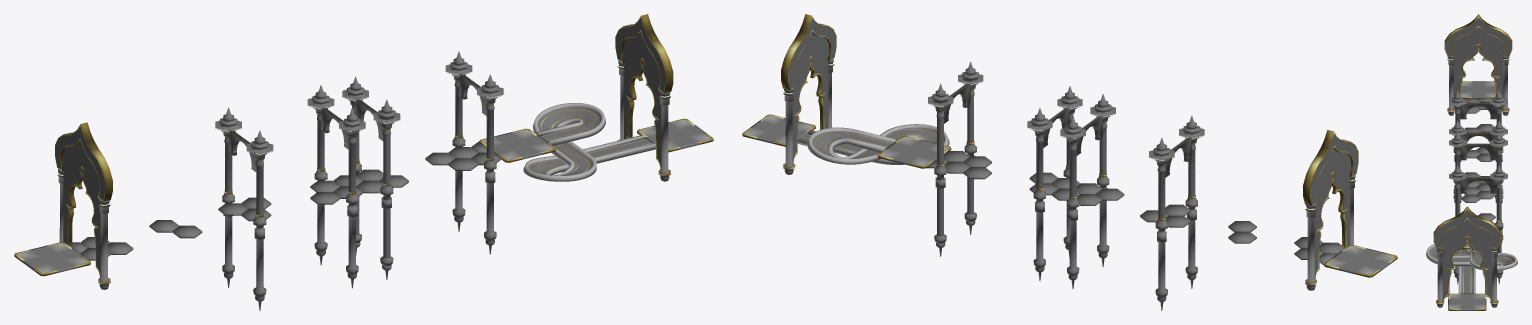
Rendered from SpaceC.gltf.
The picture shows the model from 3 angles, left to right: view 1: azimuth 30°, elevation 25°; view 2: azimuth 150°, elevation 25°; view 3: azimuth 270°, elevation 25°; orthographic projection. The views are drawn at different scales.
Parts seen in each view (by area): view 1: stg071_k22_Mesh_0007, stg071_o22_Mesh_0000, stg071_k22_Mesh_0000, stg071_k22_Mesh_0021, stg071_k22_Mesh_0001, stg071_k22_Mesh_0010, stg071_k22_Mesh_0005, stg071_k22_Mesh_0013, stg071_k22_Mesh_0034, stg071_k22_Mesh_0025, stg071_k22_Mesh_0027, stg071_k22_Mesh_0015 (+1 smaller); view 2: stg071_k22_Mesh_0007, stg071_o22_Mesh_0000, stg071_k22_Mesh_0000, stg071_k22_Mesh_0010, stg071_k22_Mesh_0021, stg071_k22_Mesh_0001, stg071_k22_Mesh_0005, stg071_k22_Mesh_0013, stg071_k22_Mesh_0034, stg071_k22_Mesh_0025, stg071_k22_Mesh_0027, stg071_k22_Mesh_0015 (+1 smaller); view 3: stg071_k22_Mesh_0007, stg071_o22_Mesh_0000, stg071_k22_Mesh_0005, stg071_k22_Mesh_0013, stg071_k22_Mesh_0000, stg071_k22_Mesh_0027, stg071_k22_Mesh_0001, stg071_k22_Mesh_0025, stg071_k22_Mesh_0021, stg071_k22_Mesh_0034, stg071_k22_Mesh_0019, stg071_k22_Mesh_0010 (+3 smaller).
Boxes of the visible parts, x1=… form: stg071_k22_Mesh_0007: x1=58, y1=51, x2=670, y2=310; stg071_o22_Mesh_0000: x1=14, y1=14, x2=713, y2=284; stg071_k22_Mesh_0000: x1=65, y1=141, x2=500, y2=260; stg071_k22_Mesh_0021: x1=21, y1=103, x2=705, y2=272; stg071_k22_Mesh_0001: x1=26, y1=109, x2=702, y2=269; stg071_k22_Mesh_0010: x1=225, y1=93, x2=486, y2=288; stg071_k22_Mesh_0005: x1=55, y1=18, x2=665, y2=226; stg071_k22_Mesh_0013: x1=62, y1=34, x2=659, y2=195; stg071_k22_Mesh_0034: x1=17, y1=120, x2=710, y2=273; stg071_k22_Mesh_0025: x1=63, y1=56, x2=661, y2=274; stg071_k22_Mesh_0027: x1=228, y1=74, x2=486, y2=171; stg071_k22_Mesh_0015: x1=58, y1=63, x2=669, y2=296; stg071_k22_Mesh_0007: x1=784, y1=58, x2=1355, y2=310; stg071_o22_Mesh_0000: x1=742, y1=14, x2=1397, y2=285; stg071_k22_Mesh_0000: x1=926, y1=151, x2=1344, y2=265; stg071_k22_Mesh_0010: x1=934, y1=96, x2=1195, y2=289; stg071_k22_Mesh_0021: x1=750, y1=117, x2=1390, y2=274; stg071_k22_Mesh_0001: x1=753, y1=119, x2=1386, y2=271; stg071_k22_Mesh_0005: x1=788, y1=18, x2=1358, y2=229; stg071_k22_Mesh_0013: x1=793, y1=33, x2=1350, y2=199; stg071_k22_Mesh_0034: x1=745, y1=115, x2=1394, y2=274; stg071_k22_Mesh_0025: x1=792, y1=54, x2=1350, y2=276; stg071_k22_Mesh_0027: x1=944, y1=83, x2=1191, y2=177; stg071_k22_Mesh_0015: x1=784, y1=60, x2=1354, y2=297; stg071_k22_Mesh_0007: x1=1436, y1=56, x2=1509, y2=307; stg071_o22_Mesh_0000: x1=1431, y1=14, x2=1512, y2=310; stg071_k22_Mesh_0005: x1=1434, y1=18, x2=1511, y2=267; stg071_k22_Mesh_0013: x1=1441, y1=27, x2=1503, y2=247; stg071_k22_Mesh_0000: x1=1461, y1=98, x2=1495, y2=224; stg071_k22_Mesh_0027: x1=1460, y1=103, x2=1496, y2=193; stg071_k22_Mesh_0001: x1=1431, y1=82, x2=1512, y2=308; stg071_k22_Mesh_0025: x1=1442, y1=43, x2=1503, y2=298; stg071_k22_Mesh_0021: x1=1426, y1=81, x2=1517, y2=310; stg071_k22_Mesh_0034: x1=1450, y1=82, x2=1495, y2=308; stg071_k22_Mesh_0019: x1=1442, y1=59, x2=1503, y2=265; stg071_k22_Mesh_0010: x1=1453, y1=114, x2=1503, y2=269.
Bounding box in the file's own units: 206 × 63.8 × 37.27.
